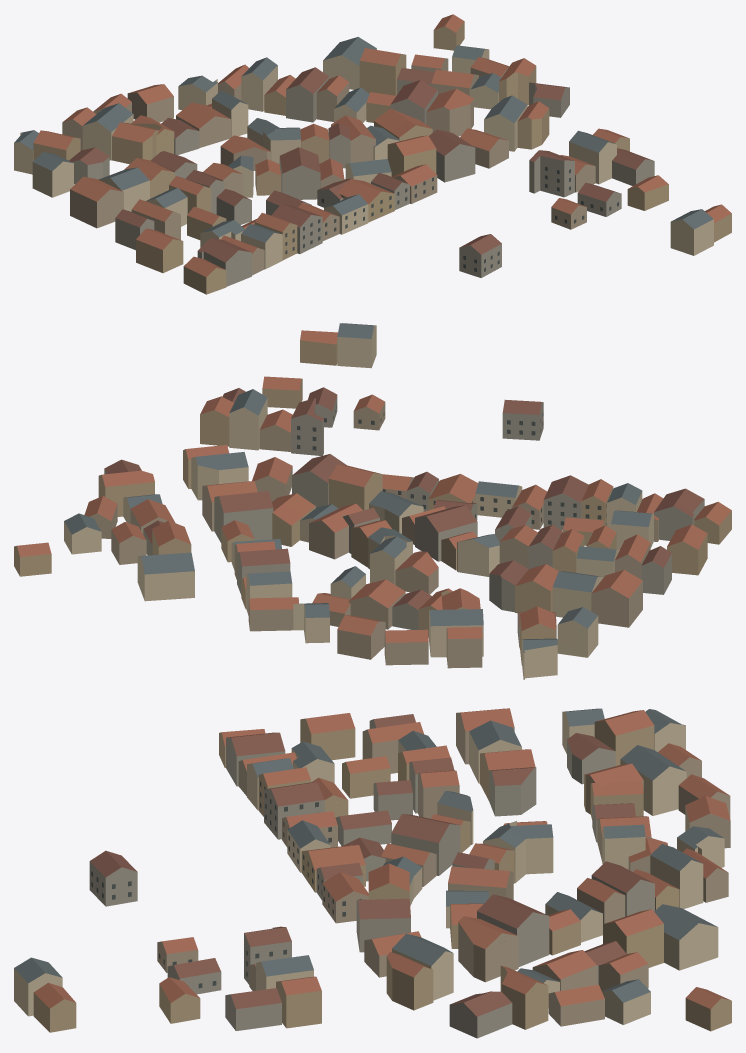
The picture shows the model from 3 angles, top to bottom: view 1: azimuth 30°, elevation 25°; view 2: azimuth 150°, elevation 25°; view 3: azimuth 270°, elevation 25°; orthographic projection. The views are drawn at different scales.
Parts seen in each view (by area): view 1: C_3_0; view 2: C_3_0; view 3: C_3_0.
Part boxes in pixels (x1,y1,x2,y2): C_3_0: (14,14,731,294); C_3_0: (14,323,731,679); C_3_0: (14,708,731,1038).
Bounding box in the file's own units: 185 × 14.35 × 189.
